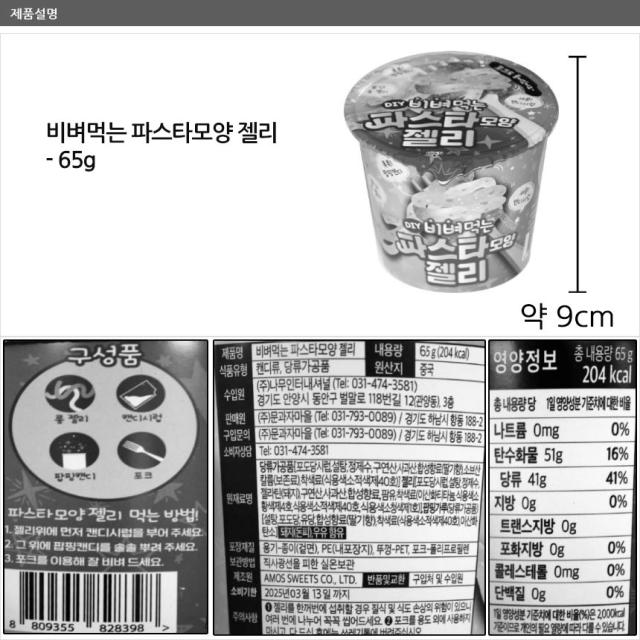Nutrition Label: (486, 333, 640, 636)
